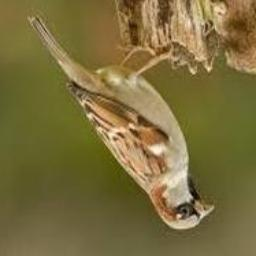Sparrow: (27, 13, 215, 230)
